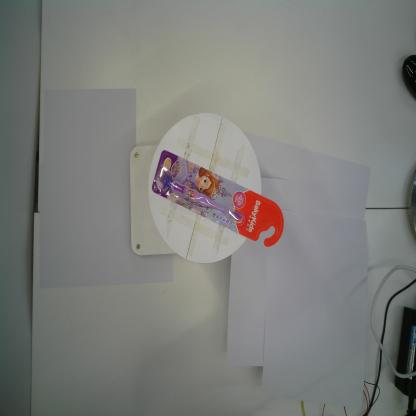Personal Hygiene: (150, 149, 285, 249)
